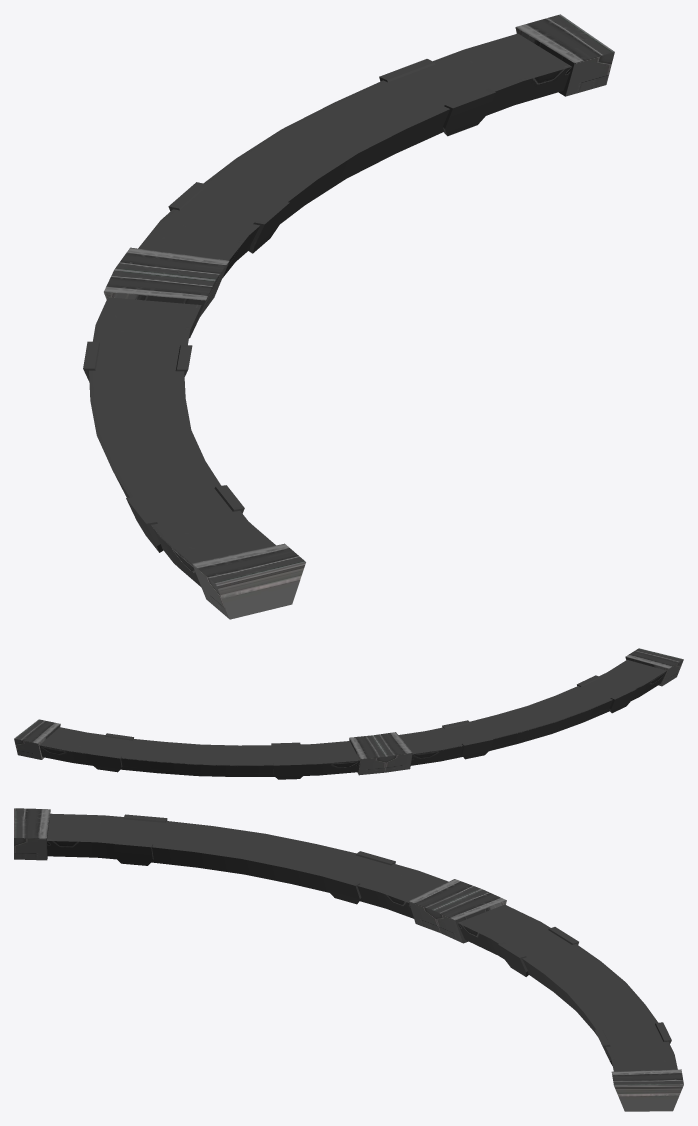
The model's file is Prop_Light_Corner.glb.
The picture shows the model from 3 angles, top to bottom: view 1: azimuth 30°, elevation 25°; view 2: azimuth 150°, elevation 25°; view 3: azimuth 270°, elevation 25°; orthographic projection. The views are drawn at different scales.
Visible parts, largest first — view 1: Prop_Light_Corner; view 2: Prop_Light_Corner; view 3: Prop_Light_Corner.
Part boxes in pixels (box(x1,y1,x2,y2)): Prop_Light_Corner: box(83, 14, 614, 619); Prop_Light_Corner: box(14, 648, 683, 779); Prop_Light_Corner: box(14, 808, 683, 1111).
Size of the model in its own units: 4.12 by 0.1819 by 4.21.
Materials: 2 (1 with a texture image).
